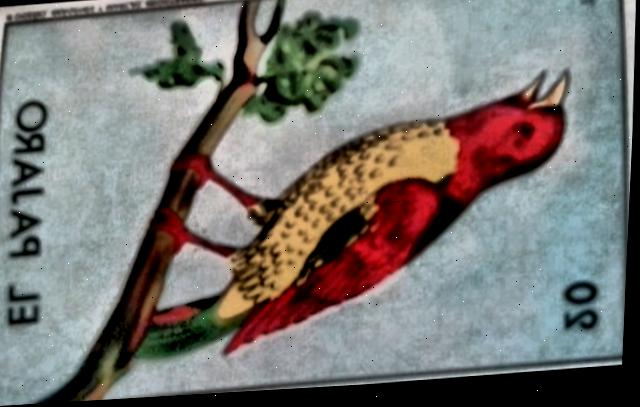El Pajaro: (0, 0, 628, 406)
